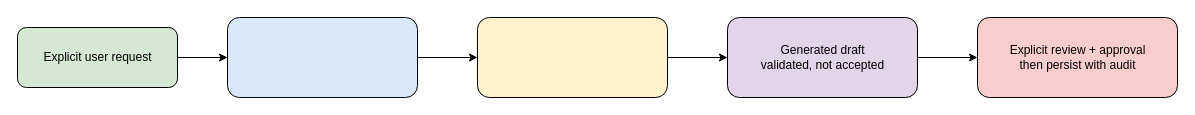
This 1195x115 diagram has some shape labels left out. Here are the shapes that lost their labels. From the top down, the centre of each, then its label:
At (322,57): "Typed deterministic facts minimized data".
At (572,57): "Replaceable AI adapter schema constrained".
